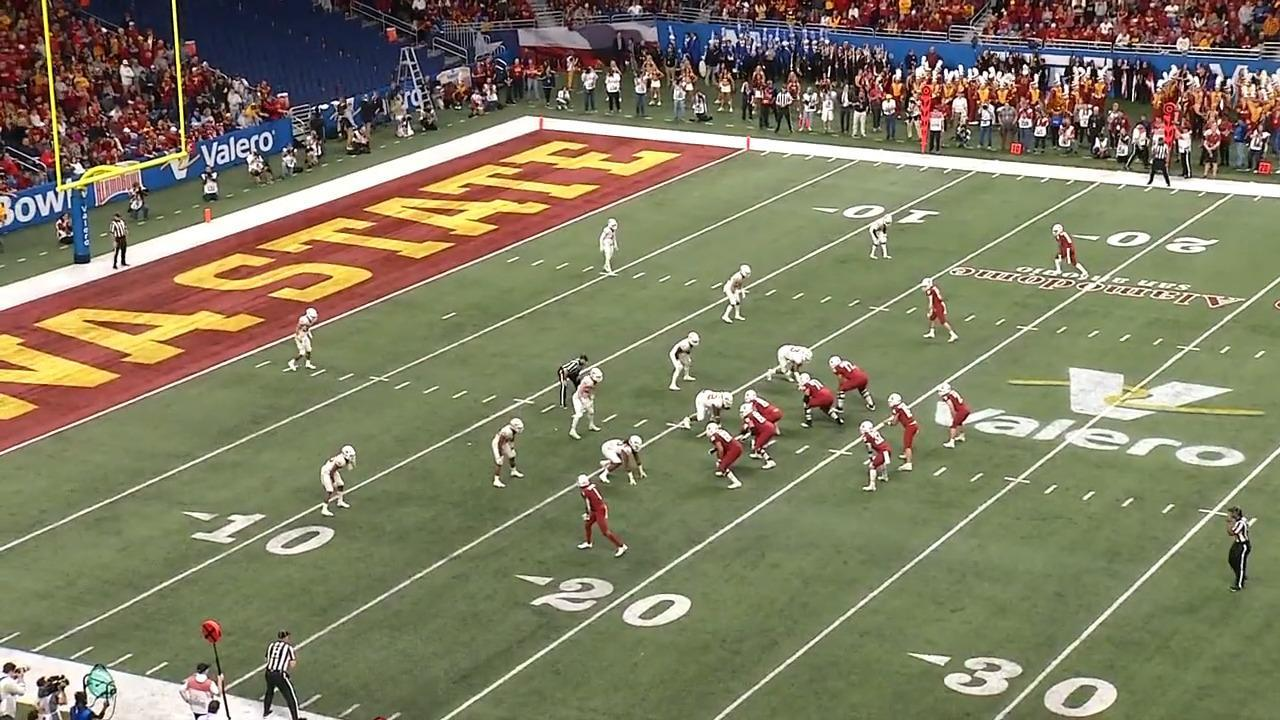player: (575, 475, 629, 560), (705, 420, 747, 490), (797, 370, 846, 429), (887, 393, 923, 473), (919, 276, 961, 344), (323, 443, 361, 518), (286, 300, 323, 377), (567, 364, 603, 441), (831, 357, 877, 416), (592, 431, 644, 483), (489, 417, 525, 492), (856, 419, 892, 494), (680, 387, 737, 434), (1048, 219, 1089, 281), (669, 329, 708, 393), (742, 405, 780, 468), (936, 379, 969, 449), (718, 262, 753, 326), (743, 390, 787, 437), (765, 345, 811, 388), (601, 216, 625, 279), (871, 213, 897, 265)
ref: (257, 626, 308, 719), (1224, 502, 1260, 596), (554, 351, 591, 418), (109, 210, 137, 273), (1144, 136, 1171, 189)
